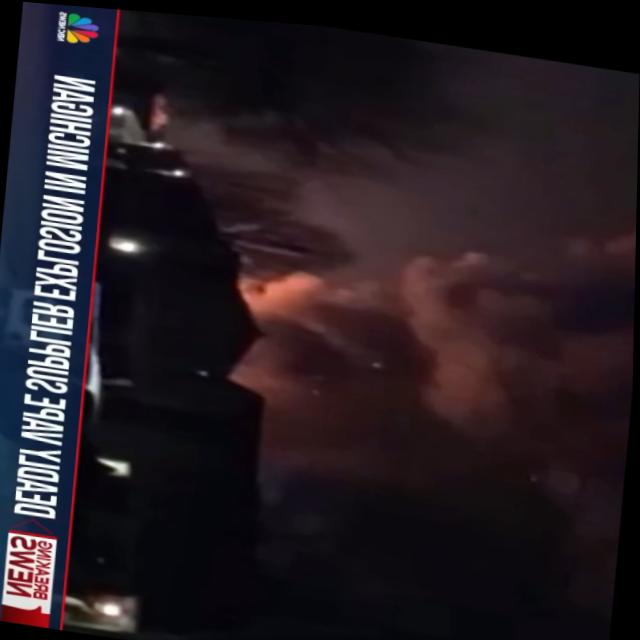Fire: (209, 222, 414, 427)
